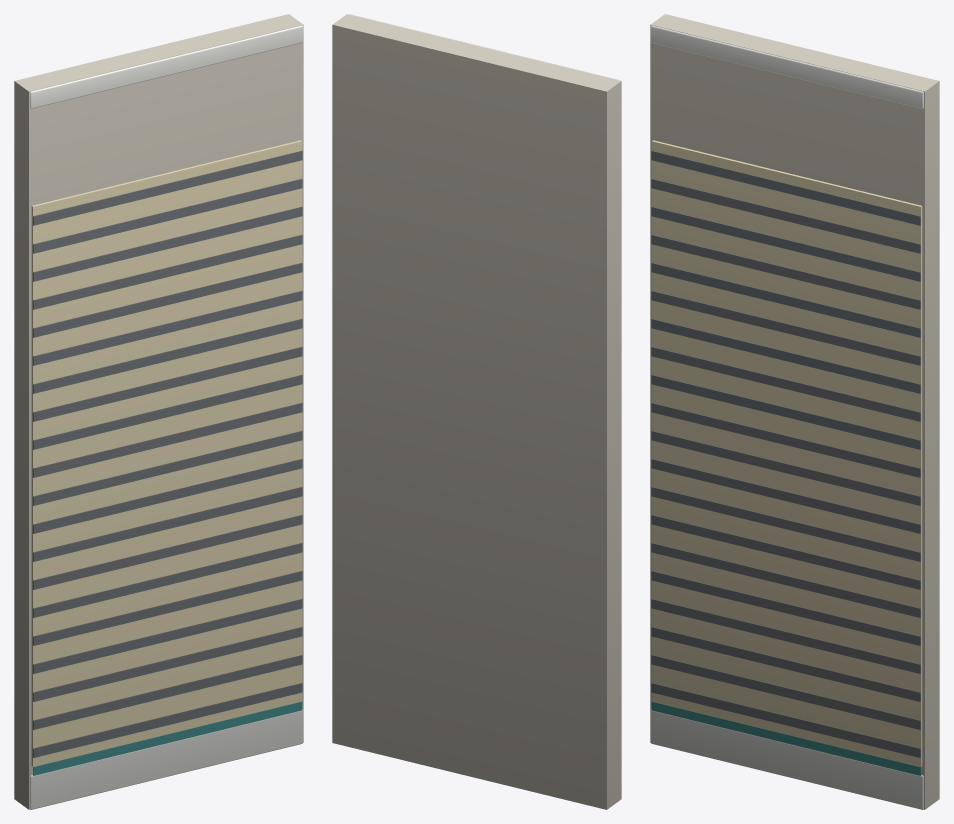
The model's file is Wall_Slatwall_1m.glb.
The picture shows the model from 3 angles, left to right: view 1: azimuth 30°, elevation 25°; view 2: azimuth 150°, elevation 25°; view 3: azimuth 330°, elevation 25°; orthographic projection.
Parts seen in each view (by area): view 1: SM_Wall_Slatwall_1m; view 2: SM_Wall_Slatwall_1m; view 3: SM_Wall_Slatwall_1m.
Part boxes in pixels (x1,y1,x2,y2): SM_Wall_Slatwall_1m: (14, 14, 303, 809); SM_Wall_Slatwall_1m: (332, 14, 621, 809); SM_Wall_Slatwall_1m: (650, 14, 939, 809).
Size of the model in its own units: 1 by 2.5 by 0.1035.
Materials: 1 (1 with a texture image).
